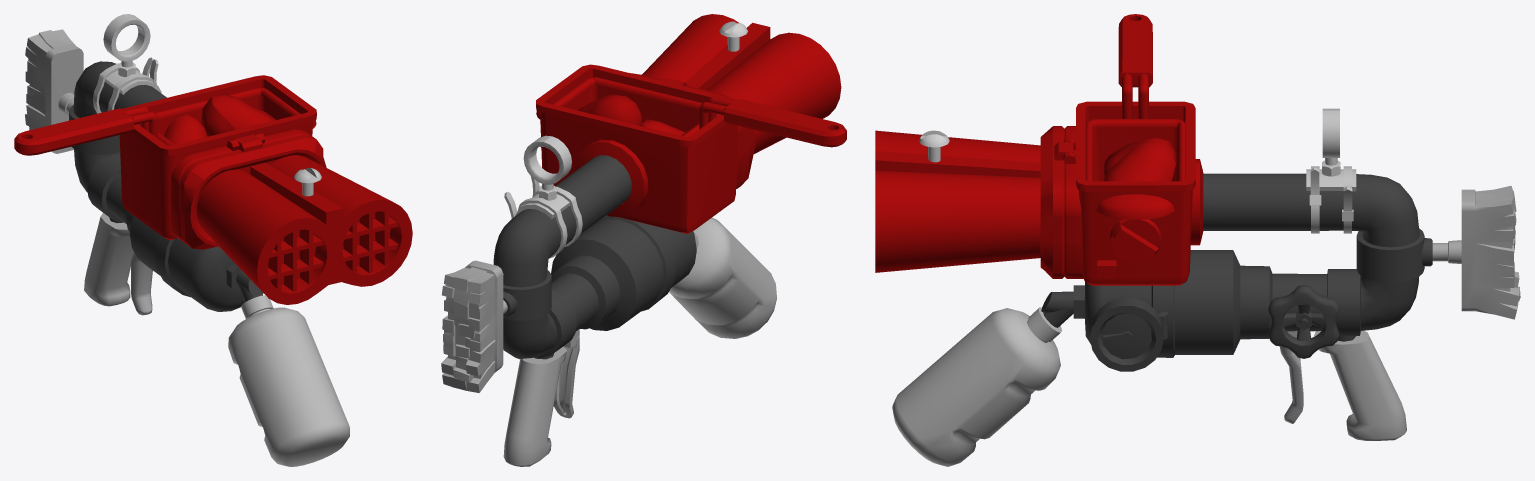
The model's file is char_spudgun_frier_preview.fbx.
3 views of the same model, side by side, from view 1: azimuth 30°, elevation 25°; view 2: azimuth 150°, elevation 25°; view 3: azimuth 270°, elevation 25° (orthographic). The views are drawn at different scales.
Visible parts, largest first — view 1: char_spudgun_base_geo; view 2: char_spudgun_base_geo; view 3: char_spudgun_base_geo.
Part boxes in pixels (bbox=[...]): char_spudgun_base_geo: bbox=[14, 14, 412, 466]; char_spudgun_base_geo: bbox=[441, 14, 846, 466]; char_spudgun_base_geo: bbox=[875, 14, 1520, 466].
Size of the model in its own units: 2.32 by 2.42 by 4.03.
